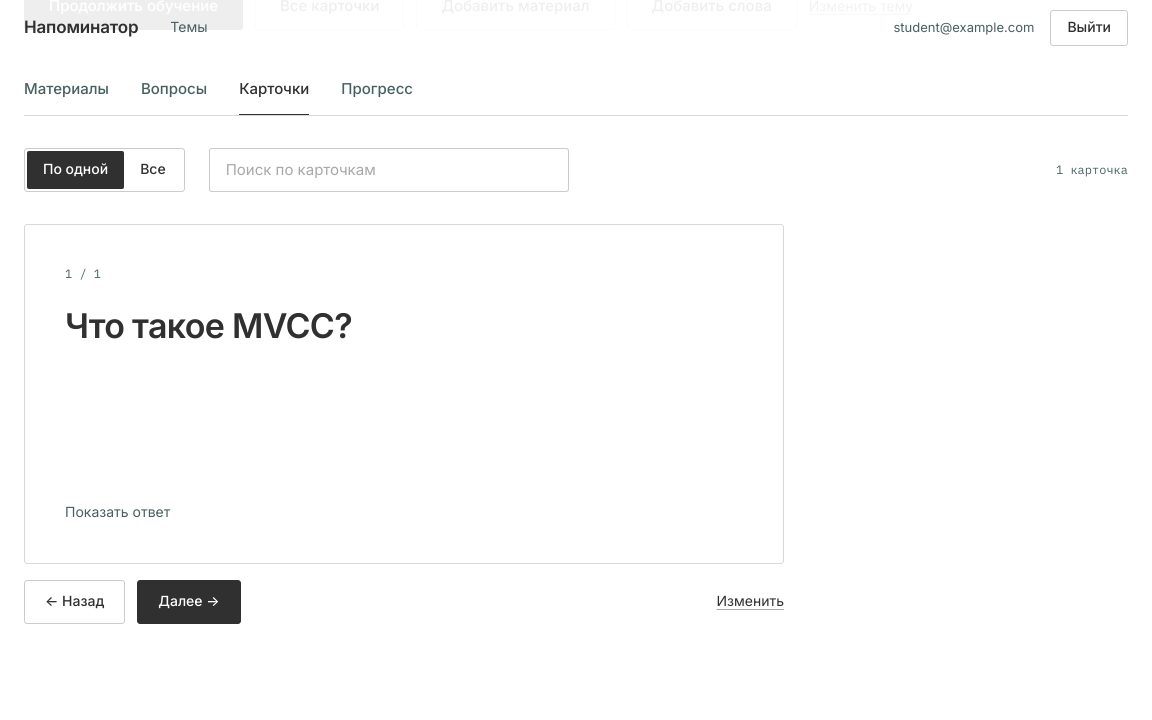
Test: Экран карточек › после удаления карточки перечитывает прогресс темы
The image size is (1152, 720).
(page scrolled)
Check: the text "Что такое MVCC?" is shown, box x1=65 y1=306 x2=352 y2=347
Click the button "Изменить" at (750, 602), box x1=716 y1=580 x2=784 y2=624
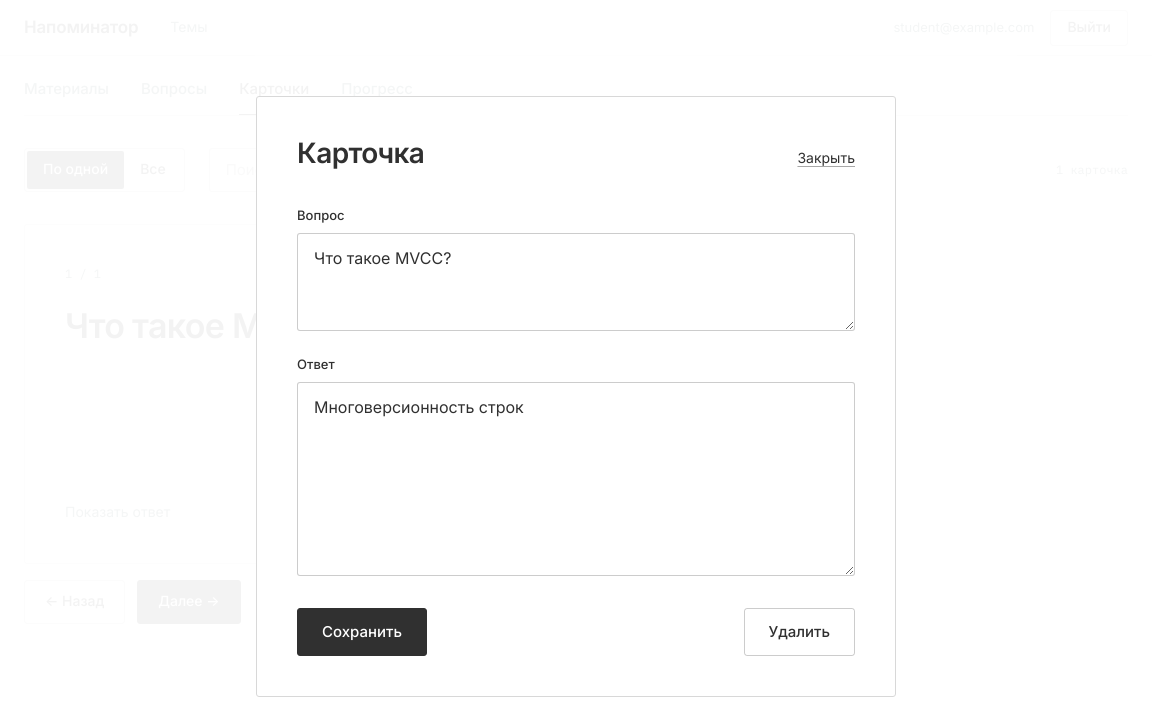
Click the button "Удалить" at (799, 632), box x1=744 y1=608 x2=855 y2=656
(page scrolled)
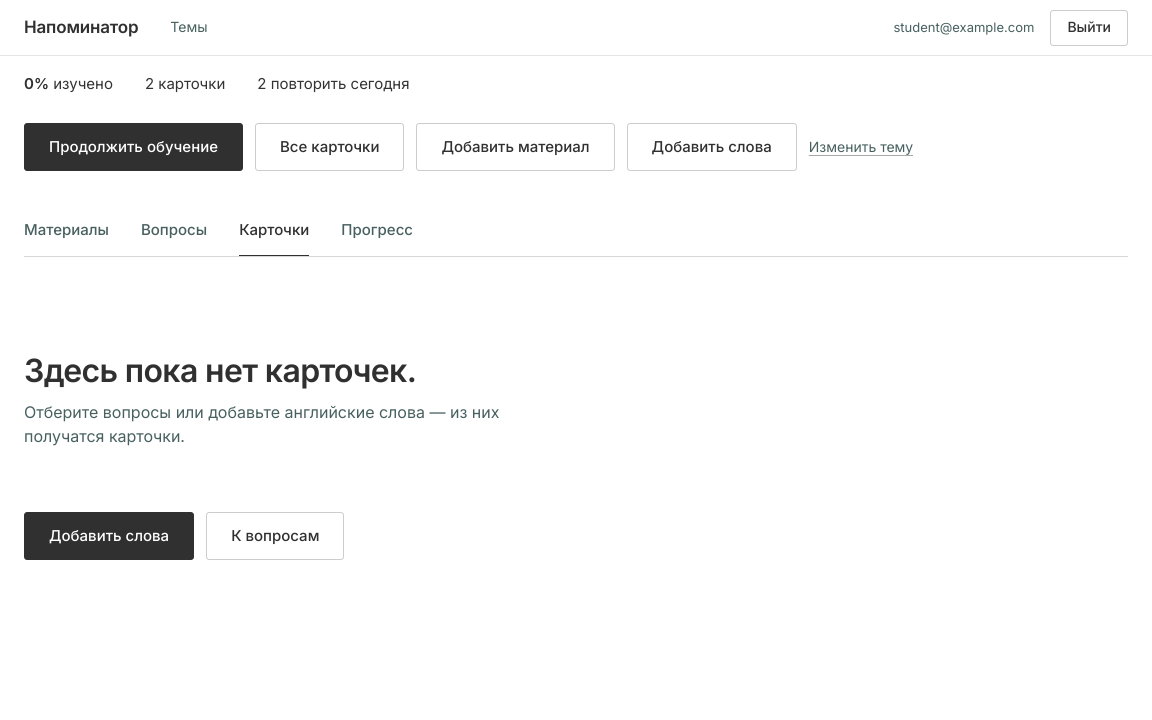
Check: the heading "Здесь пока нет карточек." is shown, box x1=24 y1=351 x2=416 y2=390
Check: the dialog is gone
